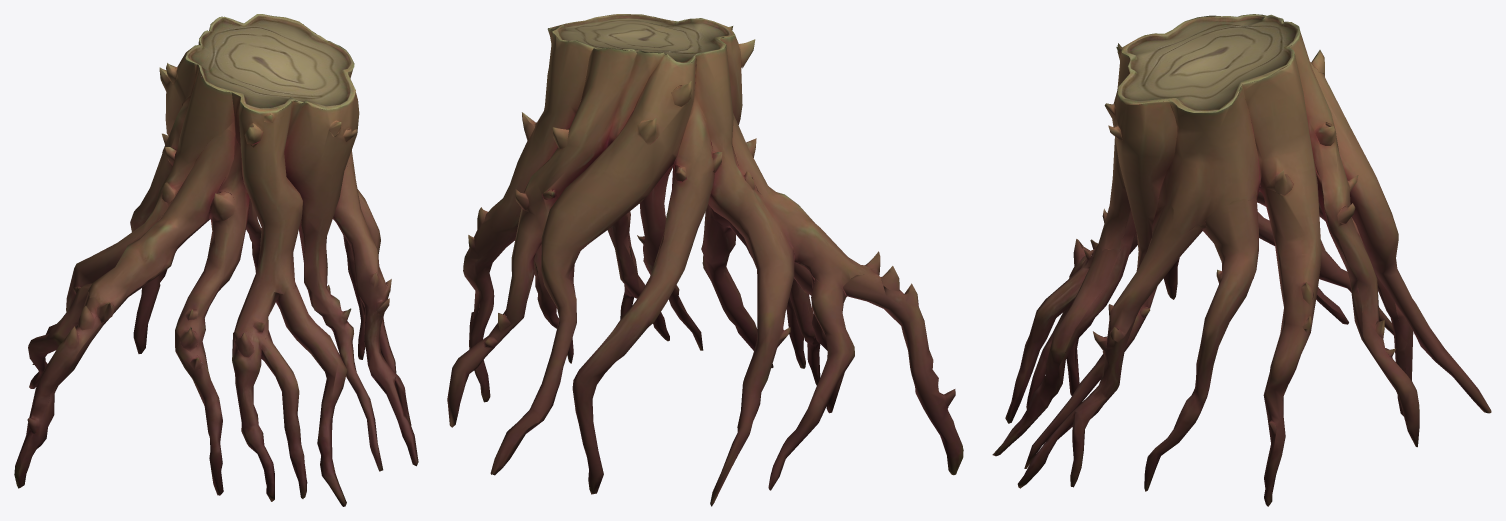
File: bog_mangrove_tree_a_lite.glb
3 views of the same model, side by side, from view 1: azimuth 30°, elevation 25°; view 2: azimuth 150°, elevation 25°; view 3: azimuth 270°, elevation 25° (orthographic). The views are drawn at different scales.
Visible parts, largest first — view 1: SM_XBOG_STL_Mangrove_01A; view 2: SM_XBOG_STL_Mangrove_01A; view 3: SM_XBOG_STL_Mangrove_01A.
Boxes of the visible parts, x1,y1,x2,y2 form: SM_XBOG_STL_Mangrove_01A: (14, 14, 418, 506); SM_XBOG_STL_Mangrove_01A: (447, 14, 963, 506); SM_XBOG_STL_Mangrove_01A: (992, 14, 1491, 506).
Size of the model in its own units: 23.81 by 21.88 by 22.73.
Materials: 1 (1 with a texture image).
